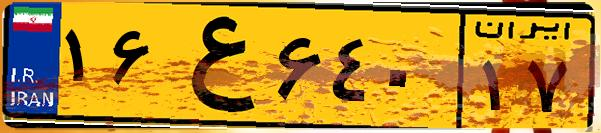0: (385, 28, 445, 110)
1: (57, 26, 110, 100), (475, 38, 525, 113)
4: (330, 28, 385, 110)
6: (270, 28, 330, 110), (110, 28, 158, 98)
7: (525, 38, 570, 115)
ع: (158, 12, 270, 120)
